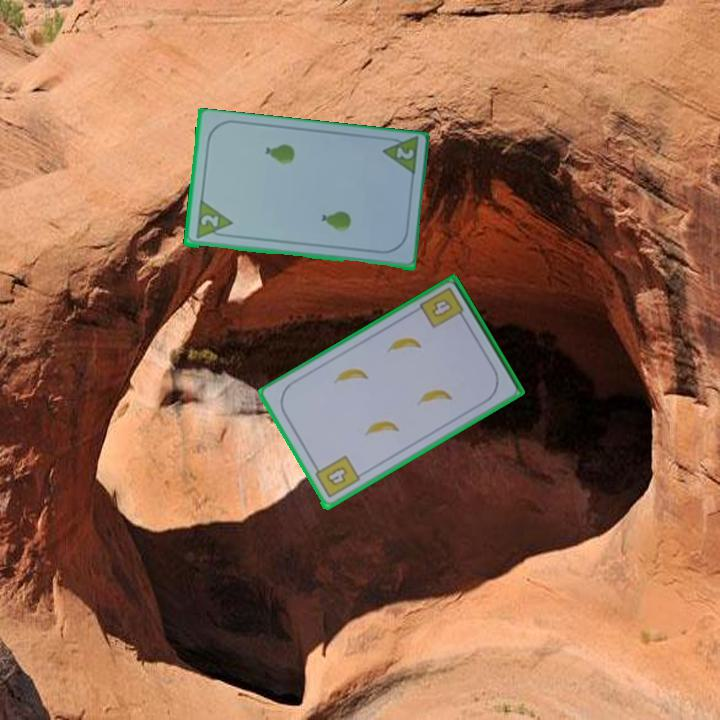2p: (197, 211, 221, 230), (392, 144, 416, 162)
4b: (310, 452, 362, 501), (428, 295, 456, 321)
